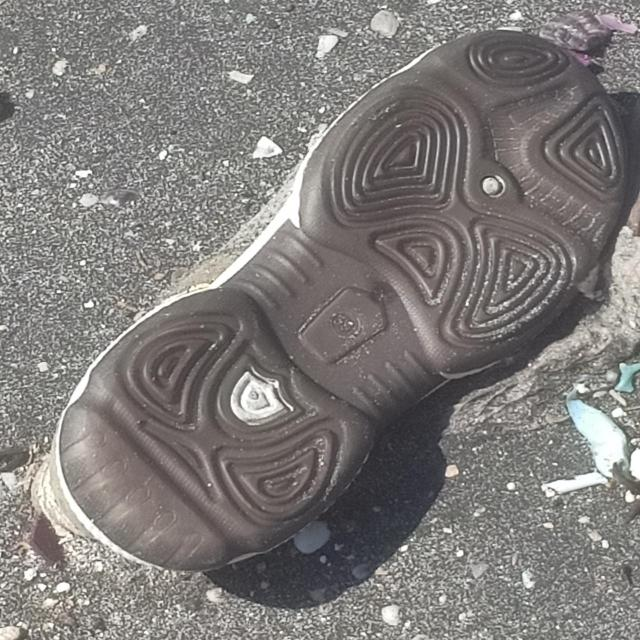rubber_waste: (45, 25, 635, 579)
